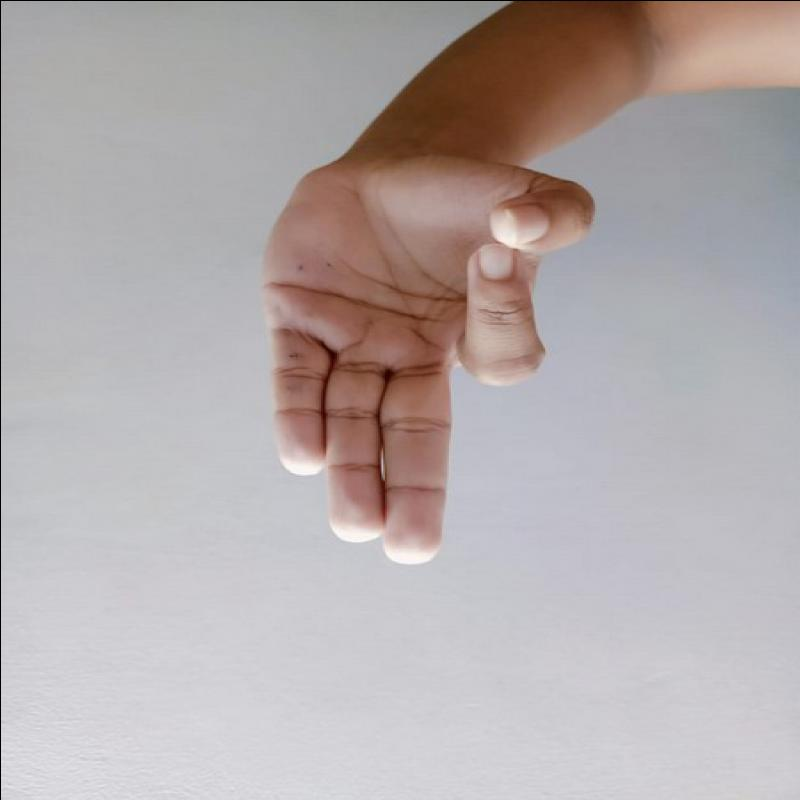Mudraakhyam: (241, 134, 604, 573)
